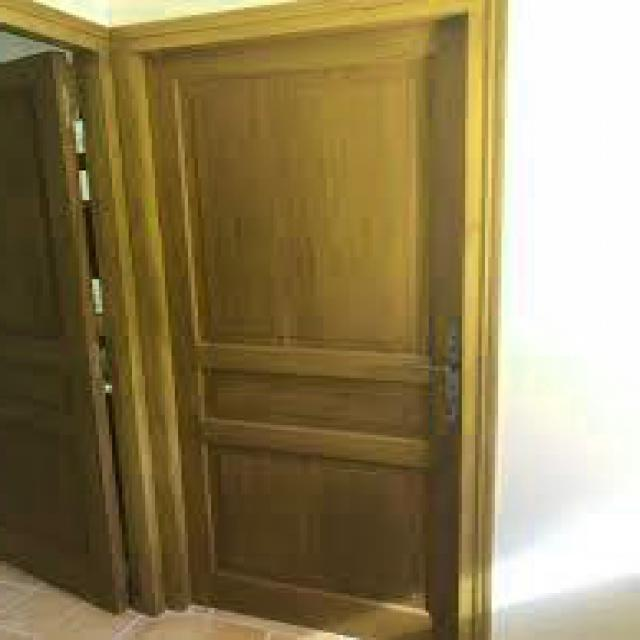door: (139, 15, 468, 636)
